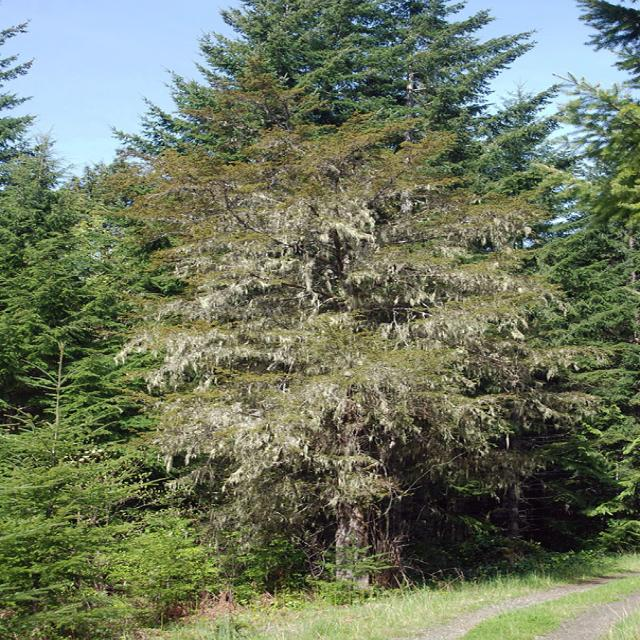Taxus brevifolia: (118, 92, 595, 586)
